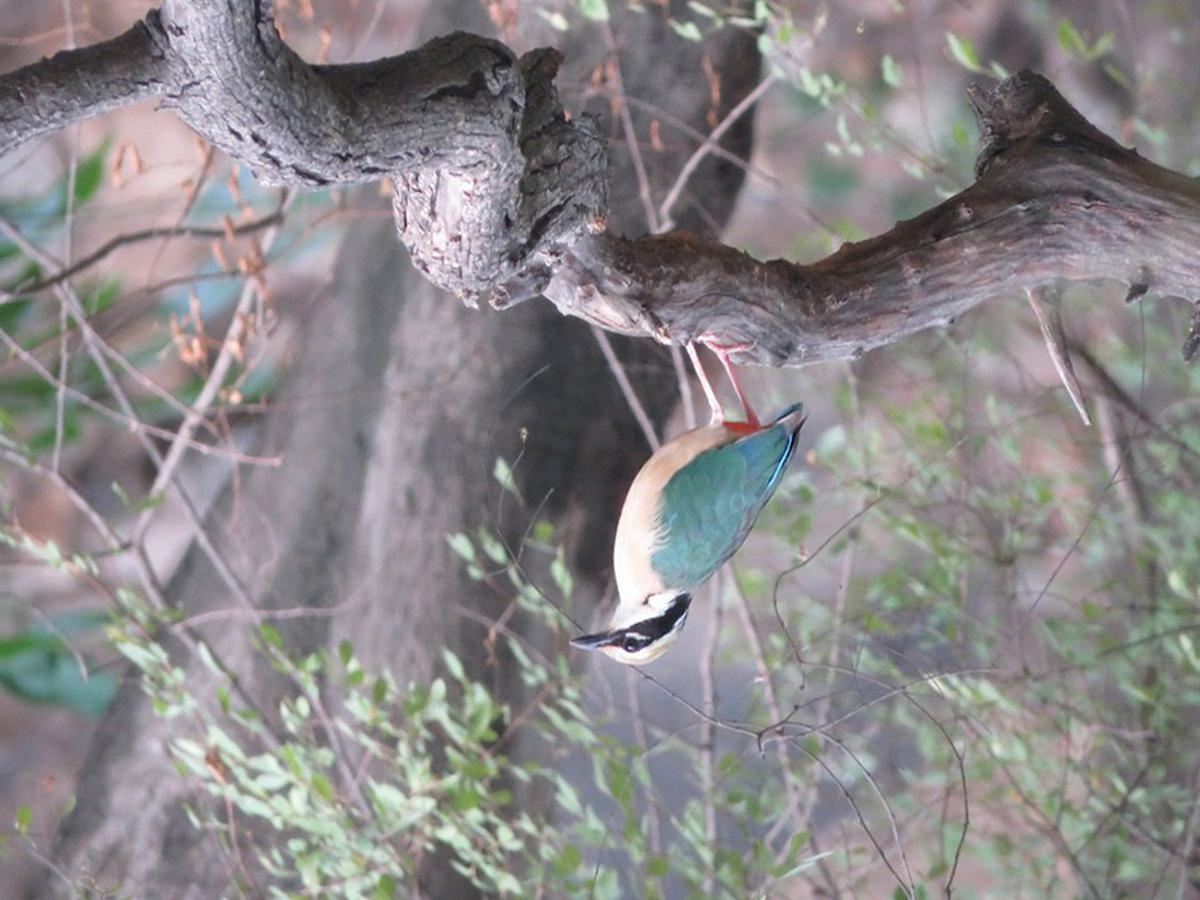pitta: (538, 317, 824, 690)
